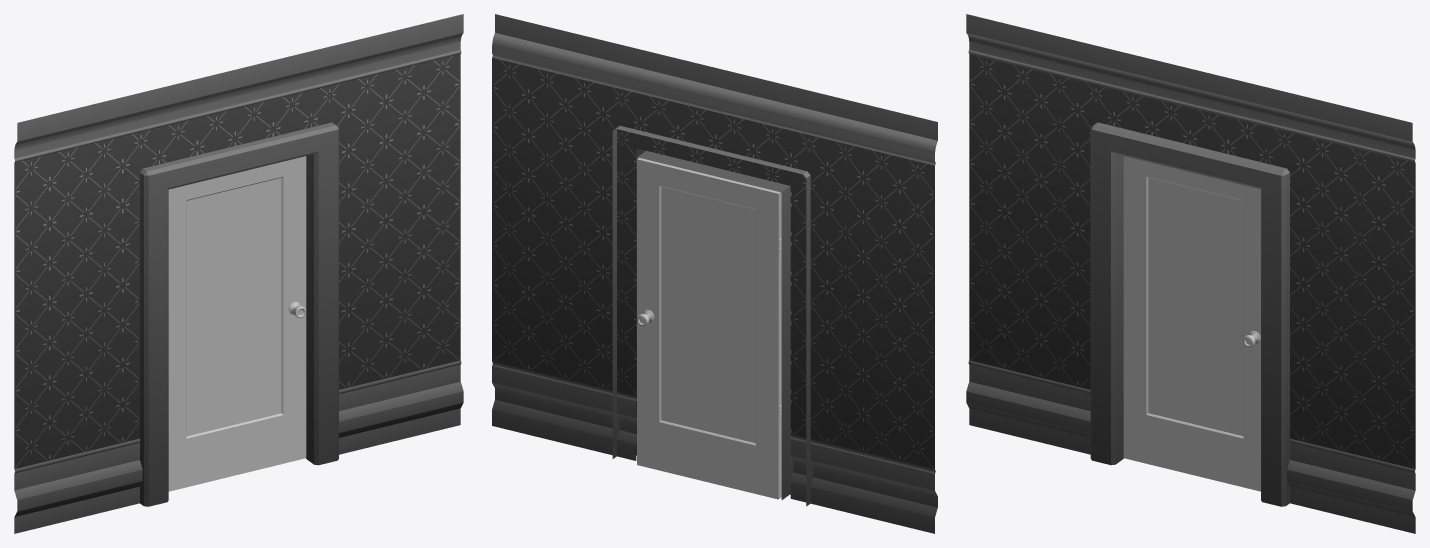
The model's file is Wall_02_Door_01_Light.fbx.
The picture shows the model from 3 angles, left to right: view 1: azimuth 30°, elevation 25°; view 2: azimuth 150°, elevation 25°; view 3: azimuth 330°, elevation 25°; orthographic projection.
Parts seen in each view (by area): view 1: Wall_02_Door_01_Light, Door_03; view 2: Wall_02_Door_01_Light, Door_03; view 3: Wall_02_Door_01_Light, Door_03.
Boxes of the visible parts, x1=… form: Wall_02_Door_01_Light: x1=14, y1=14, x2=463, y2=533; Door_03: x1=168, y1=156, x2=306, y2=491; Wall_02_Door_01_Light: x1=492, y1=14, x2=937, y2=533; Door_03: x1=637, y1=158, x2=781, y2=499; Wall_02_Door_01_Light: x1=966, y1=14, x2=1415, y2=533; Door_03: x1=1123, y1=156, x2=1260, y2=491.
Size of the model in its own units: 3 by 2.65 by 0.2141.
